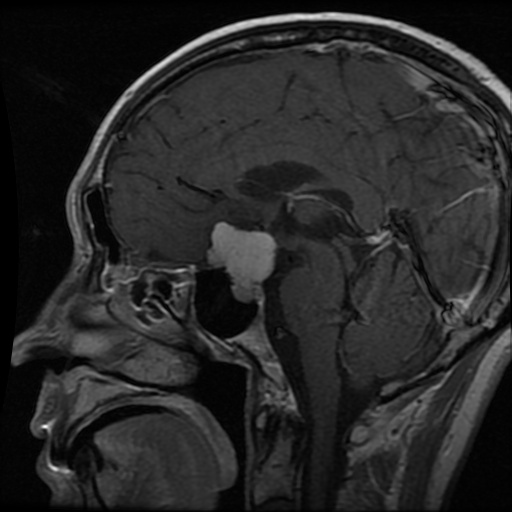meningioma: (207, 220, 275, 282)
